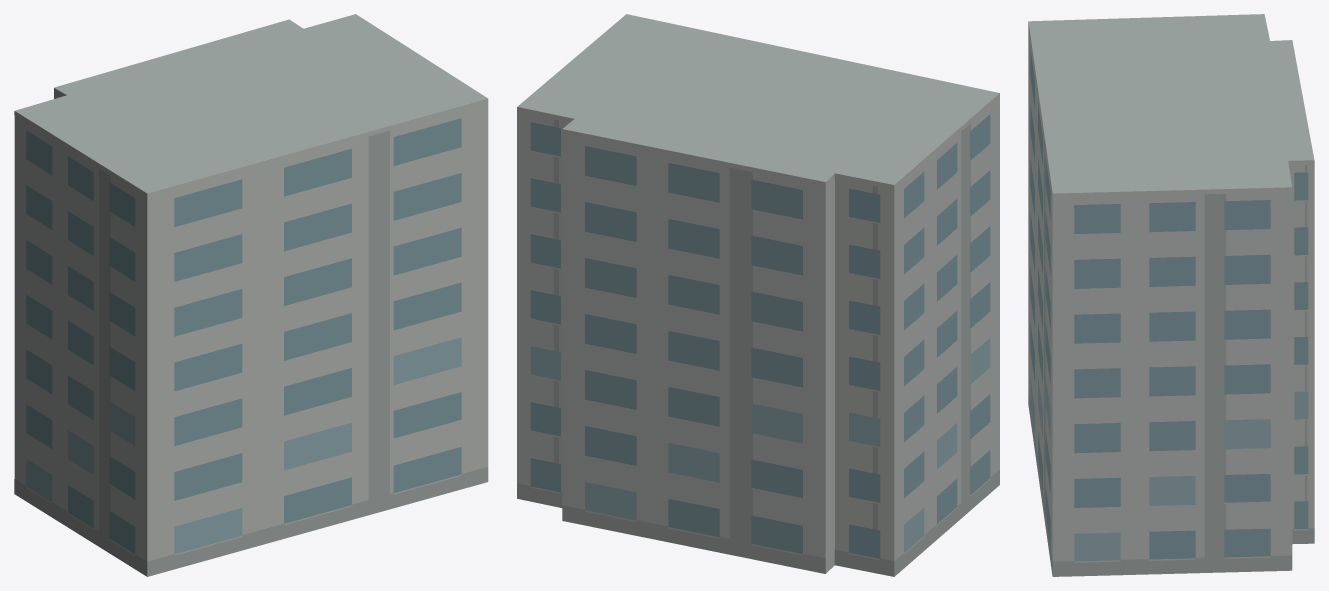
The model's file is survey-upis-32953962.glb.
3 views of the same model, side by side, from view 1: azimuth 30°, elevation 25°; view 2: azimuth 150°, elevation 25°; view 3: azimuth 270°, elevation 25° (orthographic). The views are drawn at different scales.
Visible parts, largest first — view 1: survey-upis-32953962.tmp; view 2: survey-upis-32953962.tmp; view 3: survey-upis-32953962.tmp.
Part boxes in pixels (<box>): survey-upis-32953962.tmp: <box>14,14,488,576</box>; survey-upis-32953962.tmp: <box>517,14,999,576</box>; survey-upis-32953962.tmp: <box>1028,14,1314,576</box>.
Bounding box in the file's own units: 20.2 × 20.1 × 13.6.
